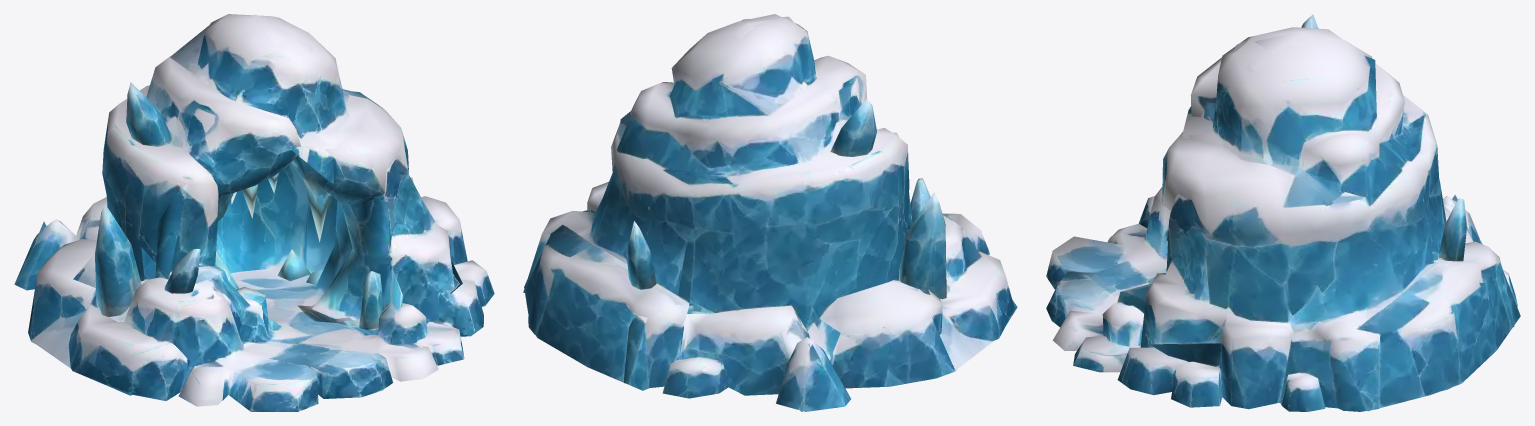
The model's file is ice_cave_1.glb.
3 renders of one model, left to right at view 1: azimuth 30°, elevation 25°; view 2: azimuth 150°, elevation 25°; view 3: azimuth 270°, elevation 25°, orthographic.
Size of the model in its own units: 1 by 0.6738 by 1.
Materials: 1 (1 with a texture image).
